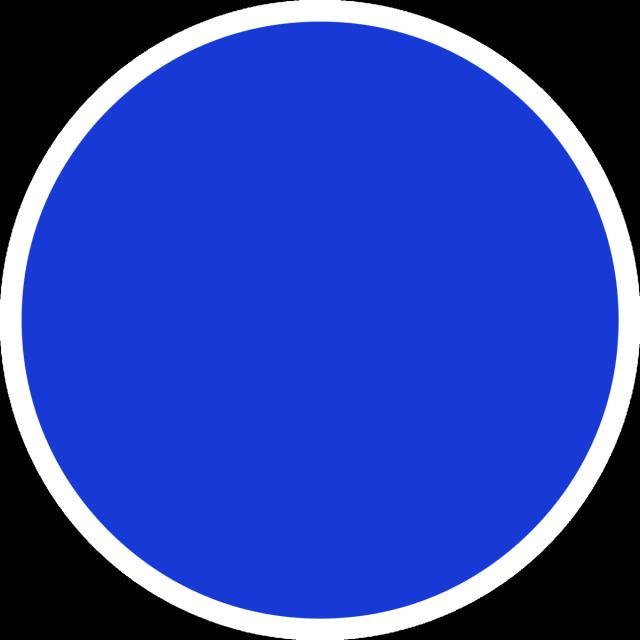Circle: (22, 21, 620, 620)
